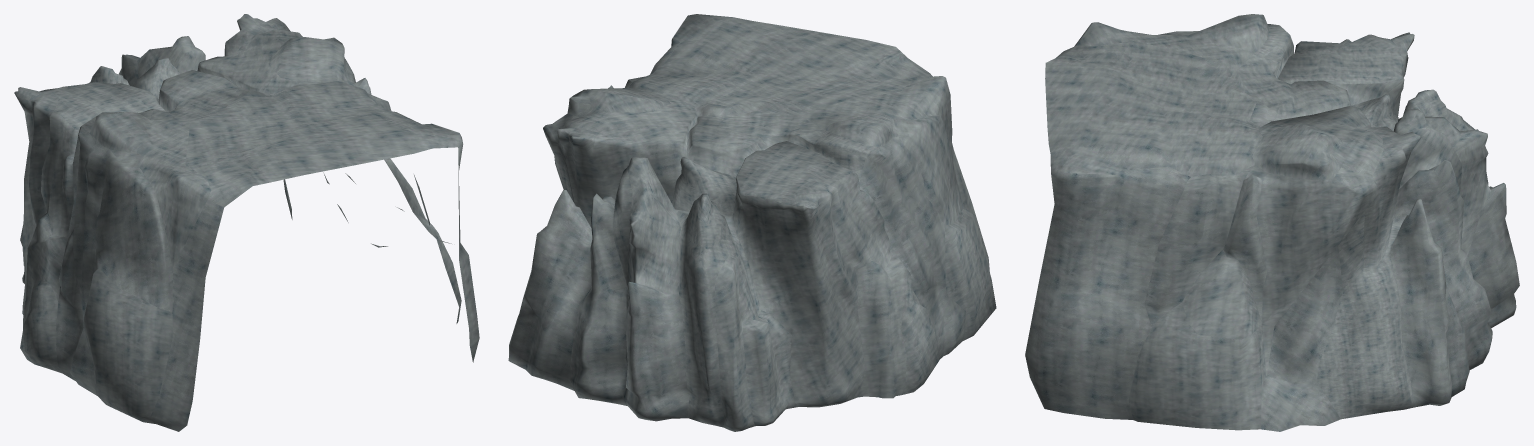
File: tesv_glacierendlg01-transformed.glb
The picture shows the model from 3 angles, left to right: view 1: azimuth 30°, elevation 25°; view 2: azimuth 150°, elevation 25°; view 3: azimuth 270°, elevation 25°; orthographic projection. The views are drawn at different scales.
Parts seen in each view (by area): view 1: glacierendlg01; view 2: glacierendlg01; view 3: glacierendlg01.
Part boxes in pixels (x1,y1,x2,y2): glacierendlg01: (14, 14, 479, 431); glacierendlg01: (508, 14, 996, 431); glacierendlg01: (1025, 14, 1519, 431).
Bounding box in the file's own units: 5.58 × 3.38 × 5.86.
Materials: 1 (1 with a texture image).
